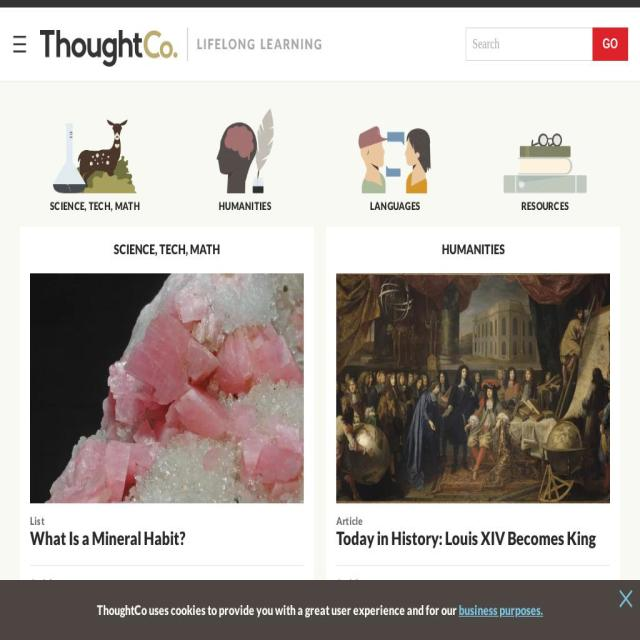button: (30, 272, 304, 566), (336, 272, 610, 566), (170, 108, 320, 227), (320, 109, 470, 227), (20, 118, 170, 227), (30, 566, 304, 623), (336, 566, 610, 623), (470, 133, 620, 227), (49, 472, 310, 492), (330, 472, 591, 492), (40, 30, 178, 67), (49, 167, 310, 186), (330, 167, 591, 186), (30, 623, 304, 640), (336, 623, 610, 640), (48, 495, 180, 528), (330, 495, 434, 528), (330, 559, 416, 592), (49, 286, 132, 318), (48, 318, 130, 350), (330, 190, 411, 222), (49, 254, 119, 287), (330, 528, 393, 560), (330, 222, 381, 255), (330, 349, 381, 382), (330, 318, 380, 350), (330, 254, 377, 287), (592, 27, 628, 61), (48, 591, 86, 623), (49, 190, 84, 222), (49, 528, 84, 560), (48, 559, 80, 592), (330, 286, 362, 318), (330, 381, 358, 414), (49, 222, 73, 255), (49, 622, 79, 640), (12, 34, 34, 54), (620, 590, 632, 608)
field: (465, 27, 593, 61)
heading: (111, 242, 223, 256), (438, 242, 508, 256)
image: (30, 273, 304, 504), (336, 273, 610, 504), (348, 109, 442, 193), (48, 118, 142, 194), (210, 108, 280, 194), (498, 134, 592, 194), (40, 30, 178, 67), (196, 27, 321, 61), (12, 35, 28, 53)
link: (30, 514, 304, 528), (30, 577, 304, 591), (336, 514, 610, 528), (336, 577, 610, 591), (30, 634, 304, 640), (336, 634, 610, 640)
text: (30, 528, 304, 550), (336, 528, 610, 550), (97, 602, 459, 618), (30, 590, 304, 608), (336, 590, 610, 608), (20, 198, 170, 214), (170, 198, 320, 214), (320, 198, 470, 214), (470, 198, 620, 214), (459, 602, 543, 618)
